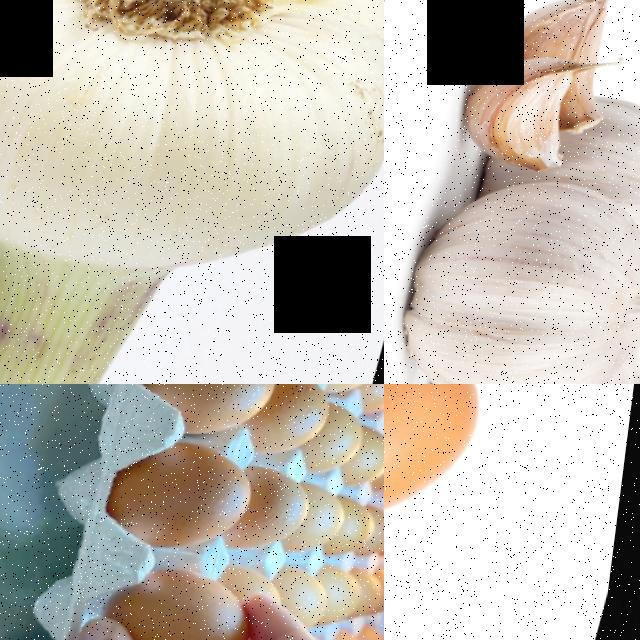egg_: (384, 384, 513, 552), (110, 438, 275, 558), (108, 560, 280, 640), (133, 384, 296, 442), (249, 384, 343, 466), (243, 469, 323, 557), (313, 400, 378, 481), (300, 482, 362, 560)
garlic: (0, 0, 384, 313), (389, 161, 640, 384), (458, 56, 592, 176), (483, 0, 637, 73), (572, 91, 640, 223)
